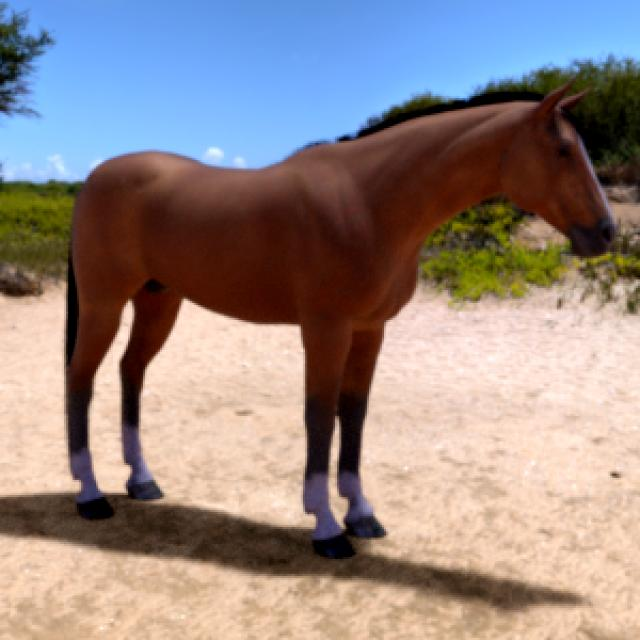horse: (65, 81, 614, 558)
